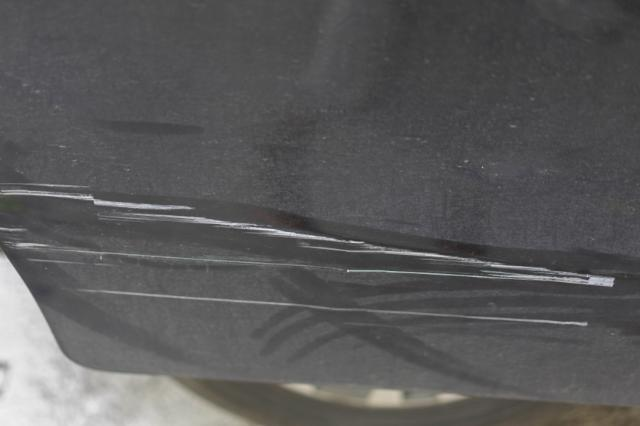Door: (0, 172, 635, 336)
